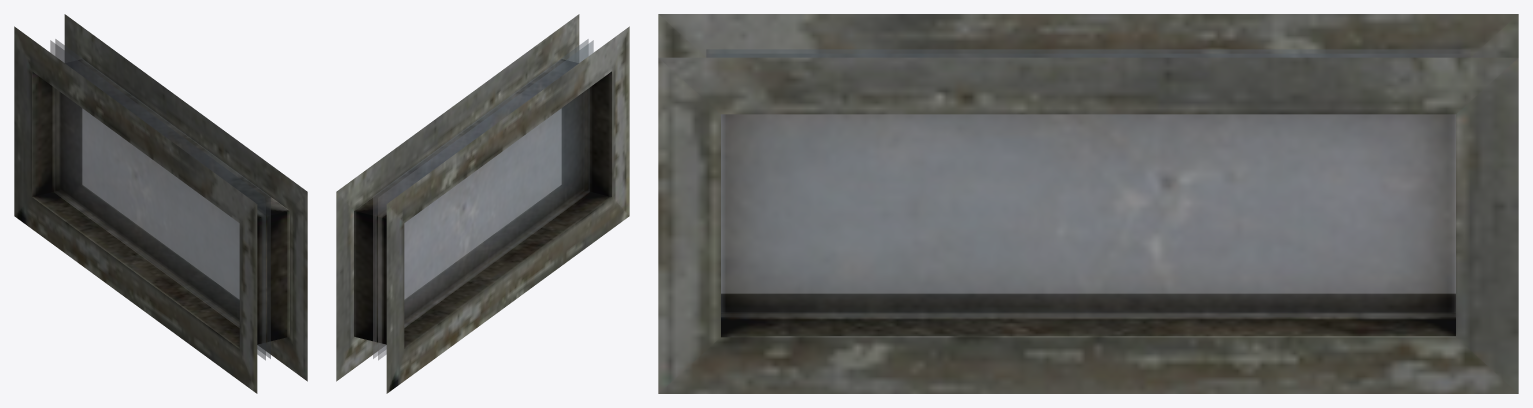
Rendered from Window_ToiletDoor.FBX.
3 views of the same model, side by side, from view 1: azimuth 30°, elevation 25°; view 2: azimuth 150°, elevation 25°; view 3: azimuth 270°, elevation 25° (orthographic). The views are drawn at different scales.
Visible parts, largest first — view 1: Window_ToiletDoor; view 2: Window_ToiletDoor; view 3: Window_ToiletDoor.
Part boxes in pixels (x1=…): Window_ToiletDoor: x1=14, y1=14, x2=307, y2=393; Window_ToiletDoor: x1=336, y1=14, x2=629, y2=393; Window_ToiletDoor: x1=658, y1=14, x2=1518, y2=393.
Bounding box in the file's own units: 15 × 53.92 × 125.
